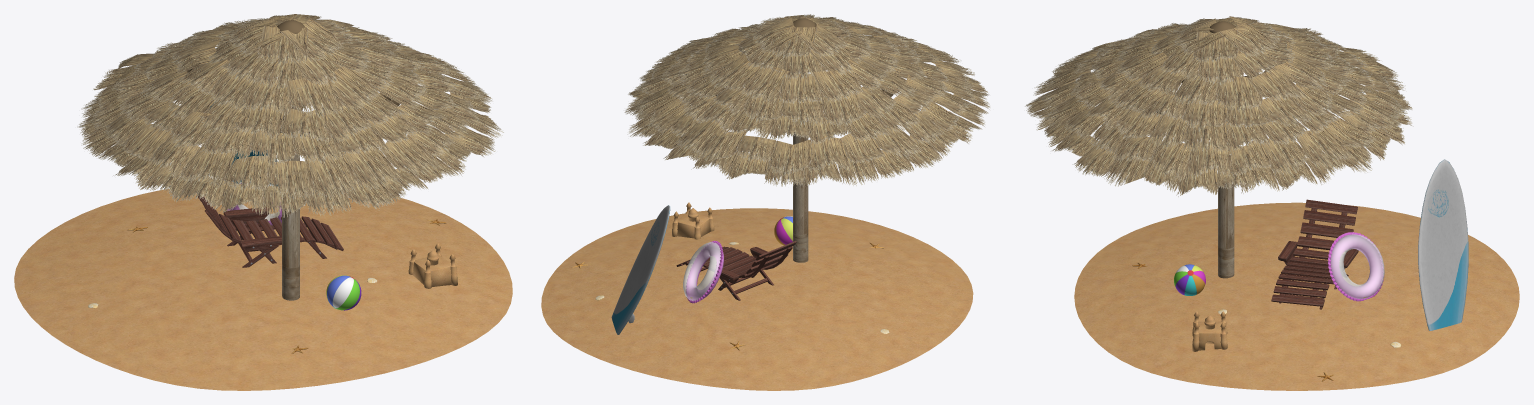
The model's file is island_final_optimized.glb.
3 views of the same model, side by side, from view 1: azimuth 30°, elevation 25°; view 2: azimuth 150°, elevation 25°; view 3: azimuth 270°, elevation 25° (orthographic). The views are drawn at different scales.
Parts seen in each view (by area): view 1: Object_5, Object_7, Object_12, Object_6, Object_9, Object_4; view 2: Object_5, Object_7, Object_8, Object_12, Object_6, Object_2, Object_3, Object_9, Object_4; view 3: Object_5, Object_7, Object_8, Object_12, Object_3, Object_2, Object_6, Object_9, Object_4.
Part boxes in pixels (x1=…): Object_5: x1=14, y1=182, x2=512, y2=390; Object_7: x1=77, y1=14, x2=503, y2=217; Object_12: x1=197, y1=192, x2=343, y2=267; Object_6: x1=183, y1=20, x2=399, y2=300; Object_9: x1=408, y1=243, x2=457, y2=288; Object_4: x1=326, y1=275, x2=361, y2=310; Object_5: x1=541, y1=208, x2=973, y2=390; Object_7: x1=624, y1=14, x2=990, y2=186; Object_8: x1=611, y1=205, x2=670, y2=334; Object_12: x1=676, y1=241, x2=796, y2=300; Object_6: x1=716, y1=18, x2=893, y2=262; Object_2: x1=683, y1=242, x2=720, y2=300; Object_3: x1=686, y1=240, x2=723, y2=303; Object_9: x1=671, y1=202, x2=714, y2=239; Object_4: x1=774, y1=216, x2=792, y2=245; Object_5: x1=1074, y1=202, x2=1519, y2=390; Object_7: x1=1025, y1=16, x2=1413, y2=196; Object_8: x1=1418, y1=159, x2=1468, y2=330; Object_12: x1=1271, y1=199, x2=1358, y2=309; Object_3: x1=1328, y1=232, x2=1384, y2=301; Object_2: x1=1330, y1=234, x2=1384, y2=299; Object_6: x1=1156, y1=21, x2=1287, y2=278; Object_9: x1=1192, y1=311, x2=1227, y2=351; Object_4: x1=1174, y1=264, x2=1205, y2=295.
Size of the model in its own units: 55.52 by 38.79 by 61.89.
12 materials, 11 textured.
